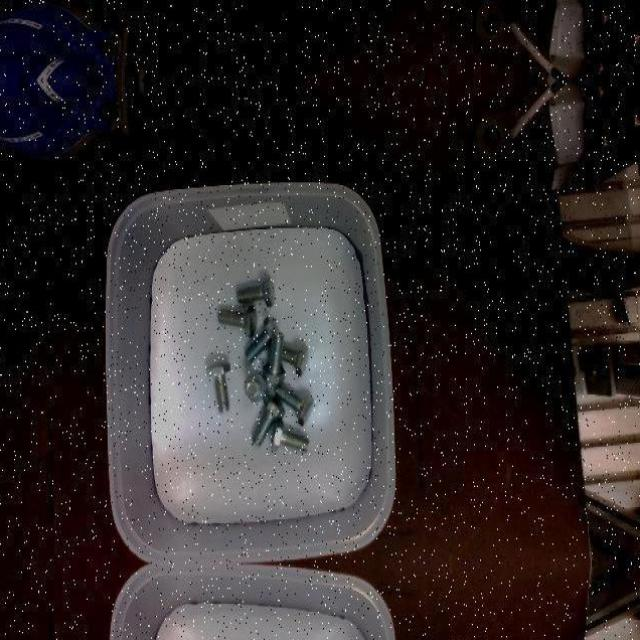screw: (252, 394, 286, 447), (276, 385, 314, 426), (272, 418, 310, 451), (262, 331, 286, 383), (218, 305, 258, 336), (208, 361, 232, 412), (238, 275, 274, 305), (245, 371, 268, 402)
